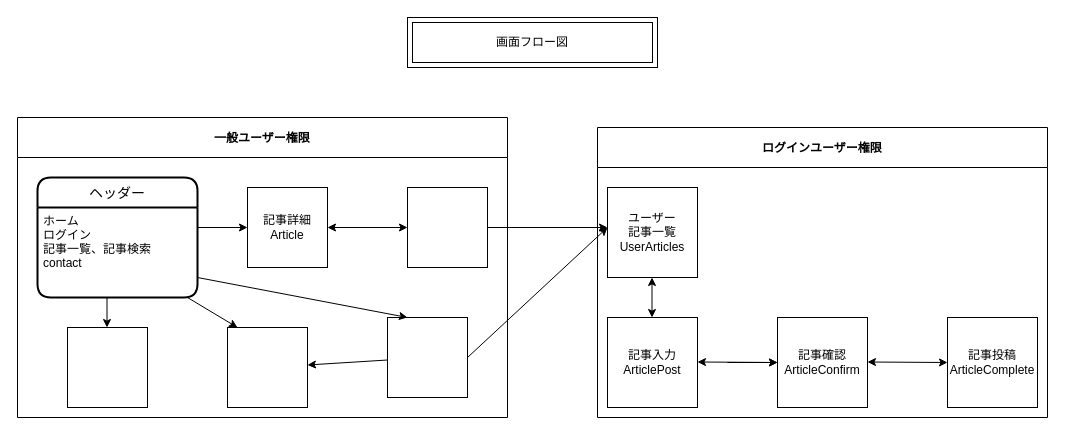
The diagram is 1065 pixels wide and 435 high, and some of its shapes have lost their labels. The shapes that lost their labels are listed below. From the top down, each one's centre as x and y in pixels, then its label:
At point 447,227: "記事一覧、 記事検索 Articles".
At point 107,367: "ホーム Home".
At point 267,367: "contact".
At point 427,357: "ログイン Login".
